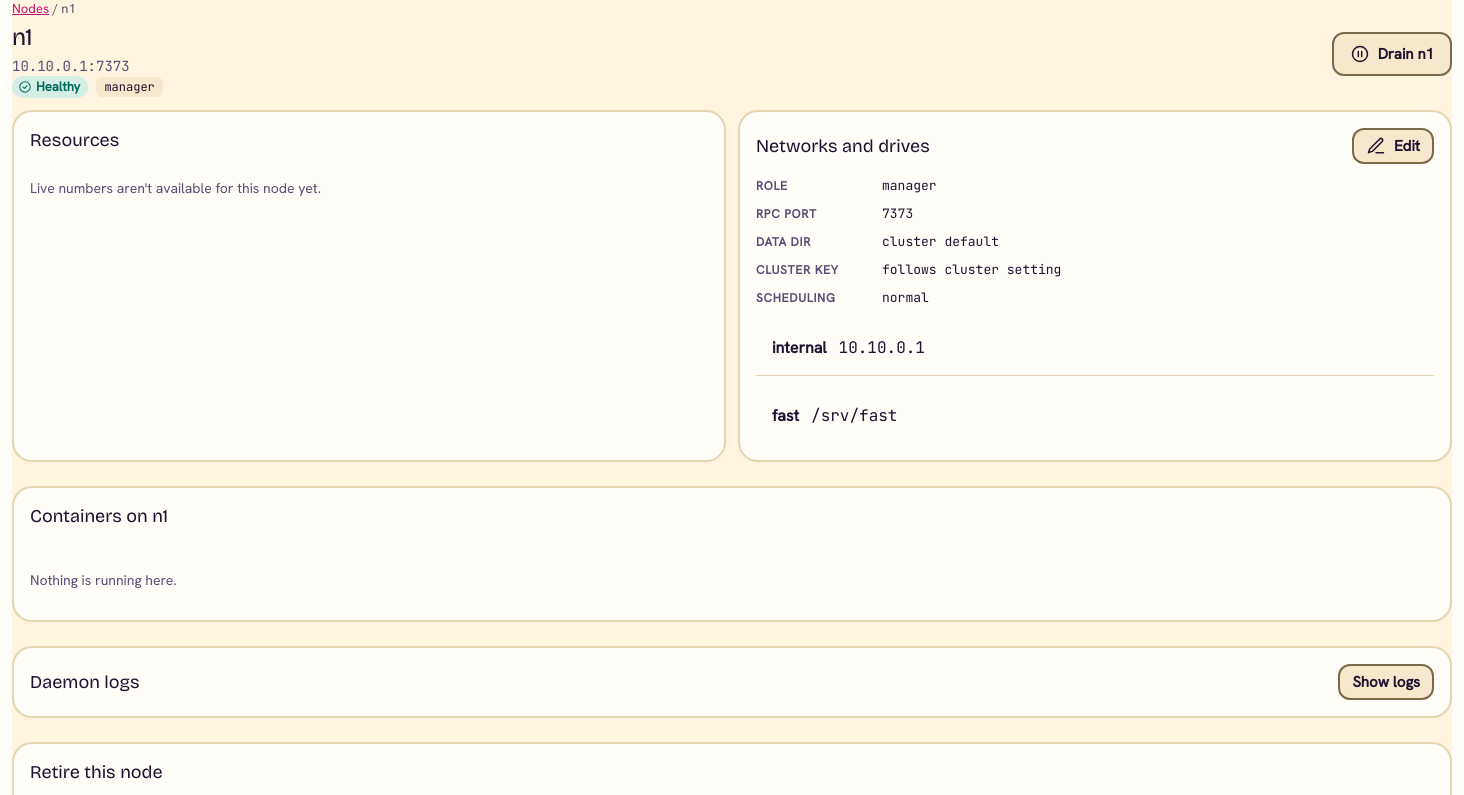
NodeDetail configuration section › cancelling edit mode returns to the read-only view without saving
The width and height of the screenshot is (1464, 795).
Click the button "Edit": (1393, 146) [1352, 128, 1434, 164]
(page scrolled)
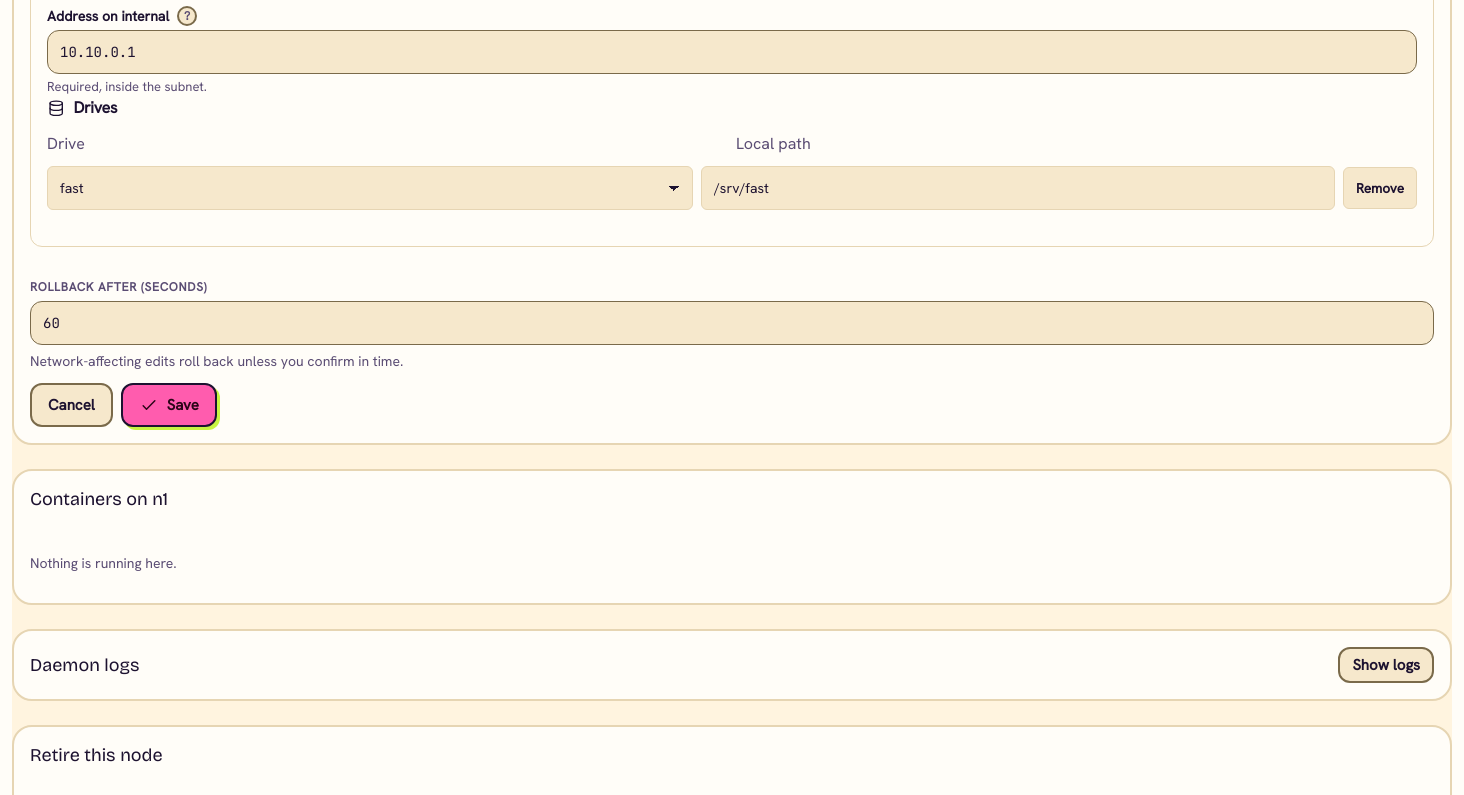
expect the button "Save" is shown: met, box [121, 383, 217, 427]
Click the button "Cancel": (71, 405) [30, 383, 113, 427]
(page scrolled)
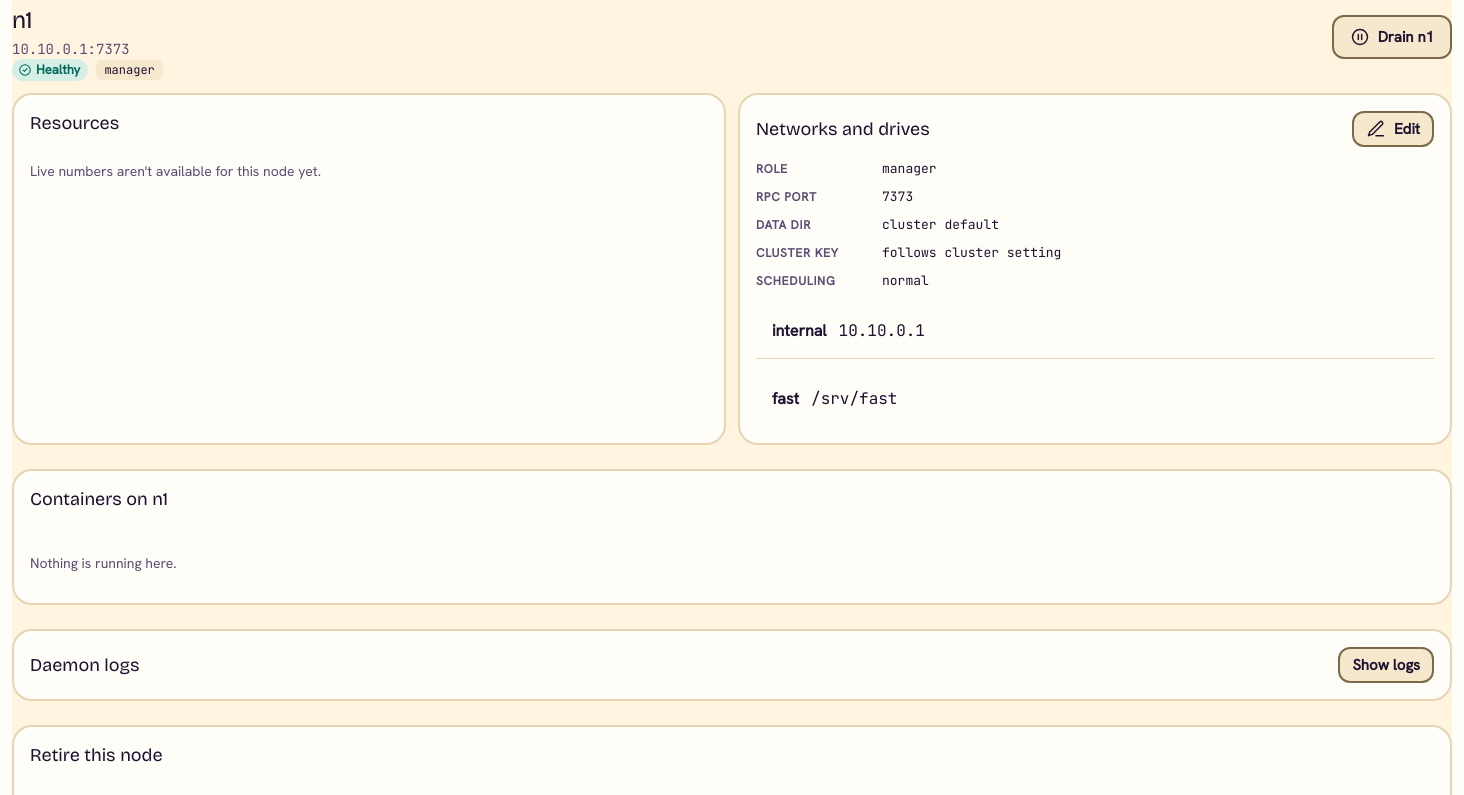
expect the button "Save" is gone: met
